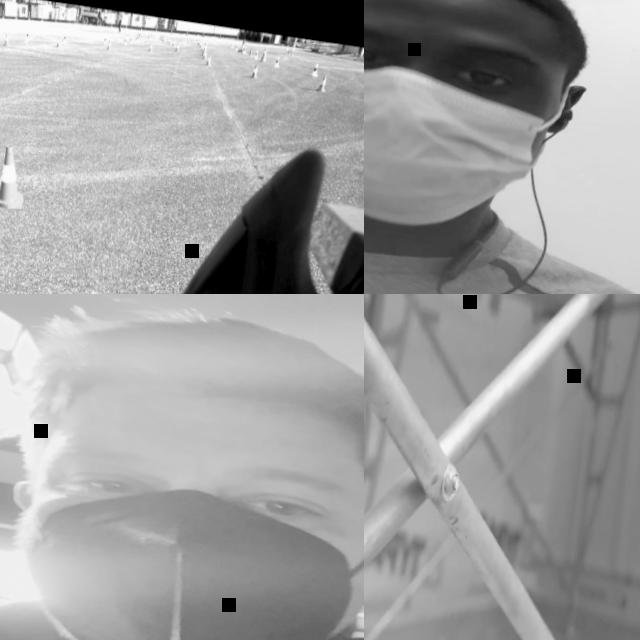Mask: (4, 482, 364, 640), (364, 54, 561, 243)
NO-Hardhat: (27, 294, 364, 454), (364, 0, 599, 37)
NO-Safety Vest: (364, 174, 640, 294)
Person: (0, 294, 364, 640), (364, 0, 640, 294)
Safety Cone: (0, 143, 30, 212), (316, 73, 328, 92), (250, 63, 260, 78), (260, 45, 268, 61), (311, 62, 319, 76), (3, 33, 11, 46), (201, 41, 207, 56), (205, 54, 212, 66), (56, 36, 62, 48), (274, 55, 280, 67), (25, 29, 31, 41), (106, 39, 112, 50), (202, 49, 208, 59), (148, 42, 154, 51), (63, 34, 69, 43), (175, 43, 180, 52), (254, 49, 258, 59), (242, 45, 247, 53), (104, 36, 108, 44), (172, 38, 176, 46), (200, 43, 204, 51), (235, 43, 239, 50), (124, 37, 128, 44), (130, 36, 134, 43), (168, 37, 172, 44), (198, 39, 202, 45), (177, 41, 180, 49), (140, 34, 144, 39), (230, 42, 233, 48), (135, 36, 138, 42), (167, 37, 170, 43), (163, 36, 166, 42), (200, 40, 202, 47), (162, 35, 164, 41), (160, 34, 162, 39), (148, 33, 150, 38), (138, 33, 140, 38)
